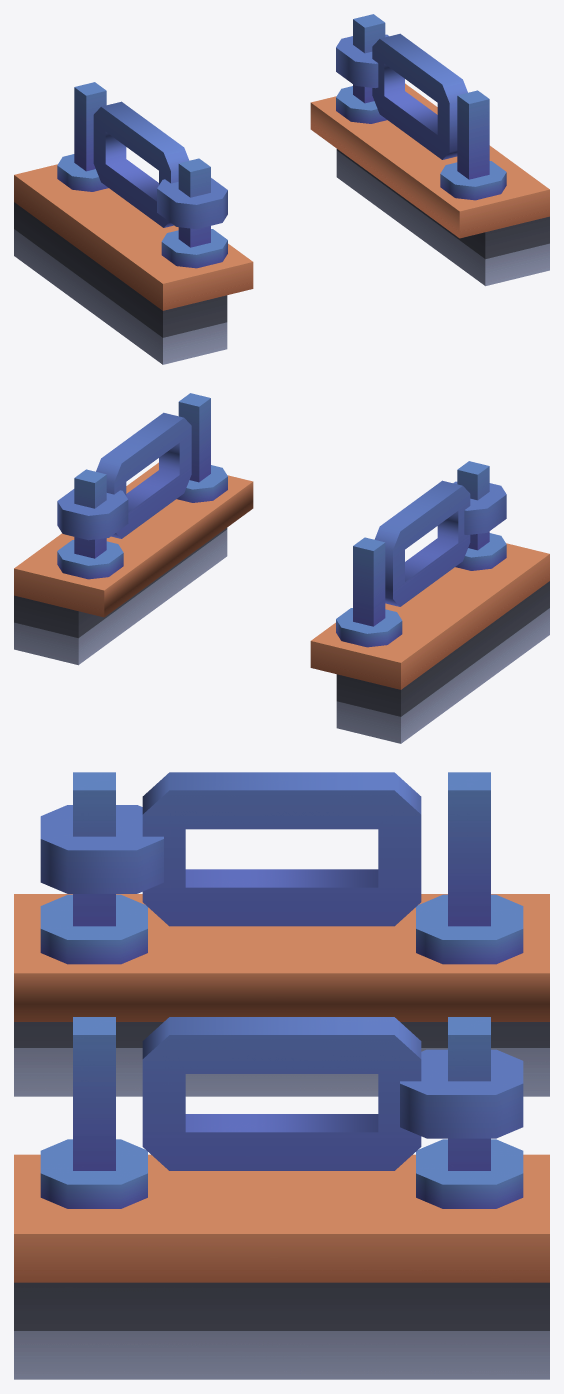
File: station-gate.glb
The picture shows the model from 3 angles, top to bottom: view 1: azimuth 30°, elevation 25°; view 2: azimuth 150°, elevation 25°; view 3: azimuth 270°, elevation 25°; orthographic projection. The views are drawn at different scales.
Parts seen in each view (by area): view 1: station-gate, Group (×4); view 2: station-gate, Group (×4); view 3: station-gate, Group (×4).
Boxes of the visible parts, x1,y1,x2,y2 form: station-gate: (14, 14, 549, 364); Group (×4): (57, 86, 506, 268); station-gate: (14, 393, 549, 743); Group (×4): (57, 465, 506, 647); station-gate: (14, 772, 549, 1379); Group (×4): (40, 894, 523, 1208).
Size of the model in its own units: 1.5 by 0.63 by 1.
1 material, 1 textured.
